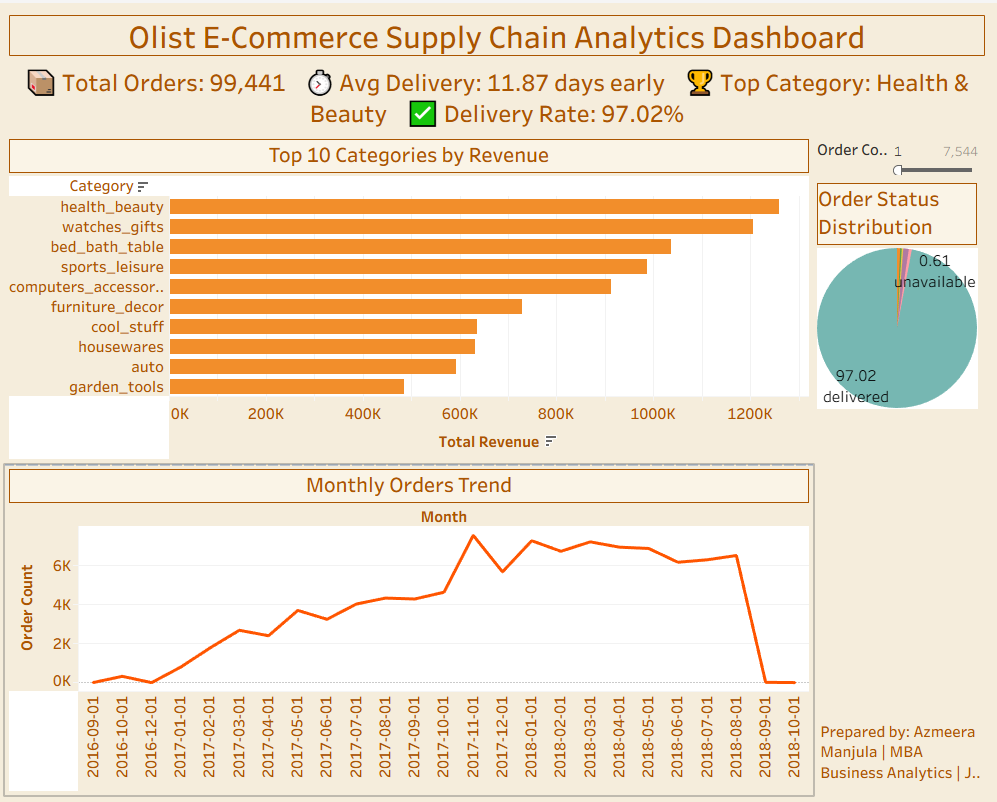

What the dashboard file says about the page in this screenshot:
{"tool":"tableau","page":{"name":"Dashboard 2","canvas":[1000,800],"ordinal":0},"visuals":[{"type":"title","box":[8,8,984,49]},{"type":"text","box":[8,57,984,75]},{"type":"worksheet","title":"Top 10 Categories by Revenue","mark":"Automatic","rows":["category"],"cols":["total_revenue"],"box":[8,132,808,330]},{"type":"filter","title":"Monthly Orders Trend","param":"[federated.0c82po51yrok8q1bt7spq0ceinxv].[sum:order_count:qk]","box":[816,132,176,44]},{"type":"worksheet","title":"Order Status Distribution","mark":"Pie","box":[816,176,176,530]},{"type":"worksheet","title":"Monthly Orders Trend","mark":"Line","rows":["order_count"],"cols":["month"],"box":[8,462,808,330]},{"type":"text","box":[816,706,176,86]}]}

Visuals, with their boxes in screenshot pixels (x1, y1, x2, y2), scaled from the page's 1000x800 canvas onto the 997x802 screenshot:
title: select_region(8, 8, 989, 57)
text: select_region(8, 57, 989, 132)
"Top 10 Categories by Revenue" worksheet: select_region(8, 132, 814, 463)
"Monthly Orders Trend" filter: select_region(814, 132, 989, 176)
"Order Status Distribution" worksheet (Pie marks): select_region(814, 176, 989, 708)
"Monthly Orders Trend" worksheet (Line marks): select_region(8, 463, 814, 794)
text: select_region(814, 708, 989, 794)
